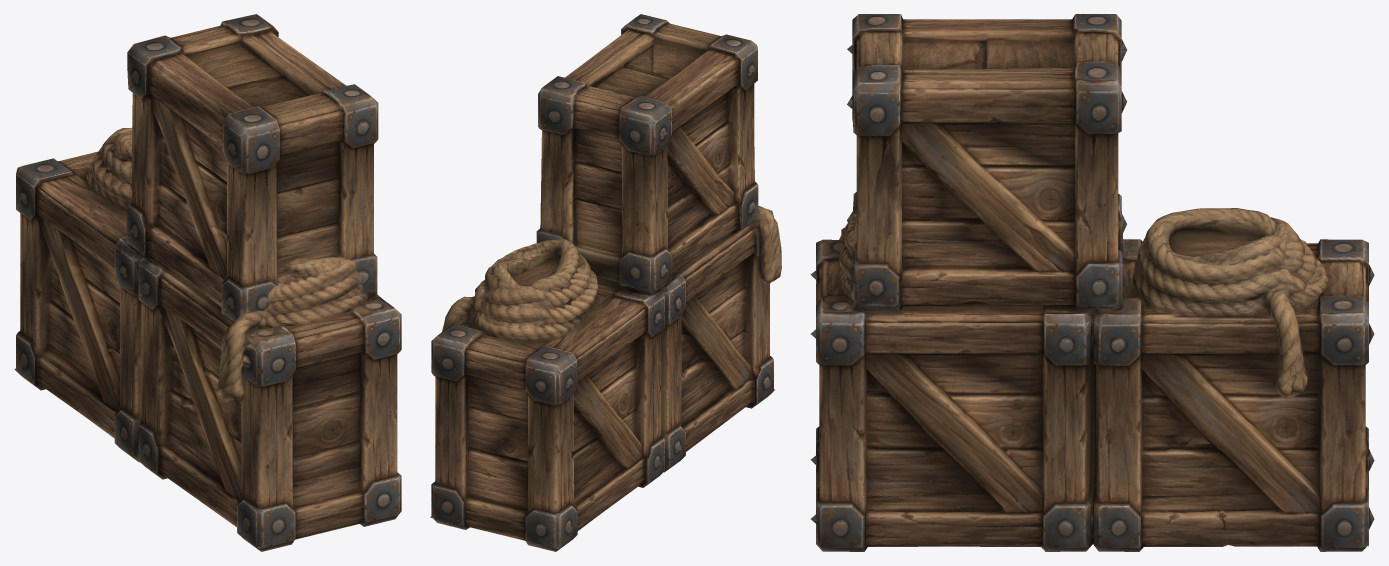
File: SM_Env_CrateStack.fbx
3 renders of one model, left to right at view 1: azimuth 30°, elevation 25°; view 2: azimuth 150°, elevation 25°; view 3: azimuth 270°, elevation 25°, orthographic. The views are drawn at different scales.
Parts seen in each view (by area): view 1: SM_Env_CrateStack; view 2: SM_Env_CrateStack; view 3: SM_Env_CrateStack.
Part boxes in pixels (<box>): SM_Env_CrateStack: <box>14,14,401,551</box>; SM_Env_CrateStack: <box>430,14,781,551</box>; SM_Env_CrateStack: <box>810,14,1374,551</box>.
Size of the model in its own units: 22.07 by 49.24 by 45.
1 material, 1 textured.
